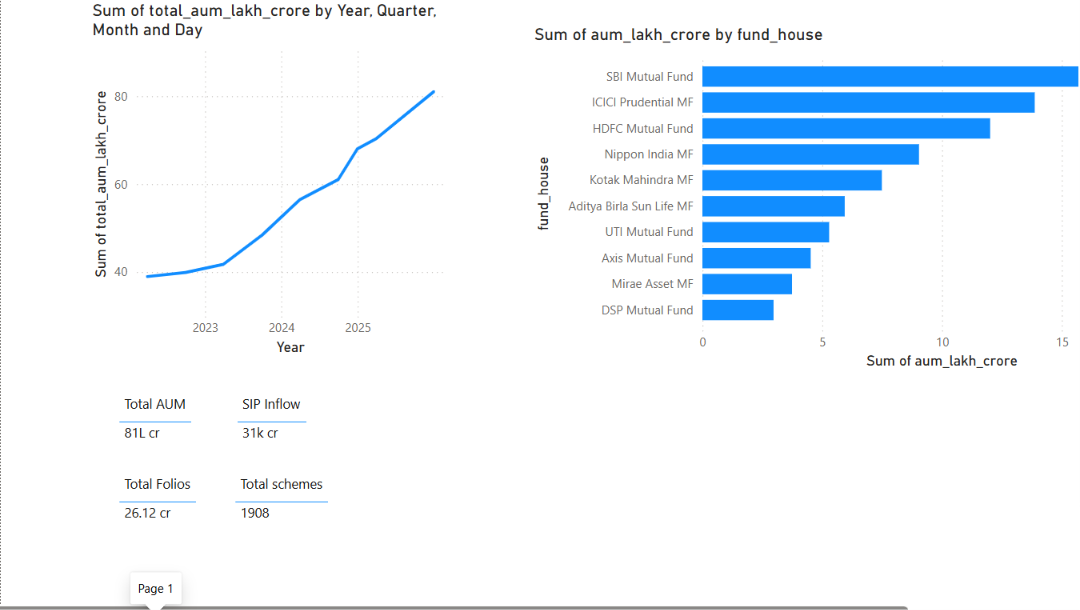

The dashboard page shown, as its layout file describes it:
{"tool":"powerbi","page":{"name":"Page 1","canvas":[1280,720],"ordinal":0},"visuals":[{"type":"lineChart","fields":{"Category":["PAGE1_industry_aum_trend.date.Variation.Date Hierarchy.Year","PAGE1_industry_aum_trend.date.Variation.Date Hierarchy.Quarter","PAGE1_industry_aum_trend.date.Variation.Date Hierarchy.Month","PAGE1_industry_aum_trend.date.Variation.Date Hierarchy.Day"],"Y":["Sum(PAGE1_industry_aum_trend.total_aum_lakh_crore)"]},"box":[87.1,0,364.3,360],"z":0},{"type":"clusteredBarChart","fields":{"Category":["PAGE1_aum_by_amc.fund_house"],"Y":["Sum(PAGE1_aum_by_amc.aum_lakh_crore)"]},"box":[528.6,24.3,664.3,350],"z":1000},{"type":"tableEx","fields":{"Values":["02_nav_history (1).Total AUM"]},"box":[113,389,364,331],"z":2000},{"type":"tableEx","fields":{"Values":["02_nav_history (1).SIP Inflow"]},"box":[231.4,388.6,127.1,85.7],"z":3000},{"type":"tableEx","fields":{"Values":["02_nav_history (1).Total Folios"]},"box":[112.9,468.6,300,171.4],"z":4000},{"type":"tableEx","fields":{"Values":["02_nav_history (1).Total schemes"]},"box":[228.6,468.6,260,80],"z":5000}]}

Visuals, with their boxes in screenshot pixels (x1, y1, x2, y2), scaled from the page's 1280x720 canvas onto the 1080x610 screenshot:
lineChart - PAGE1_industry_aum_trend.date.Variation.Date Hierarchy.Year x PAGE1_industry_aum_trend.date.Variation.Date Hierarchy.Quarter: rect(73, 0, 381, 305)
clusteredBarChart - PAGE1_aum_by_amc.fund_house x Sum(PAGE1_aum_by_amc.aum_lakh_crore): rect(446, 21, 1007, 317)
tableEx - 02_nav_history (1).Total AUM: rect(95, 330, 402, 609)
tableEx - 02_nav_history (1).SIP Inflow: rect(195, 329, 302, 402)
tableEx - 02_nav_history (1).Total Folios: rect(95, 397, 348, 542)
tableEx - 02_nav_history (1).Total schemes: rect(193, 397, 412, 465)
